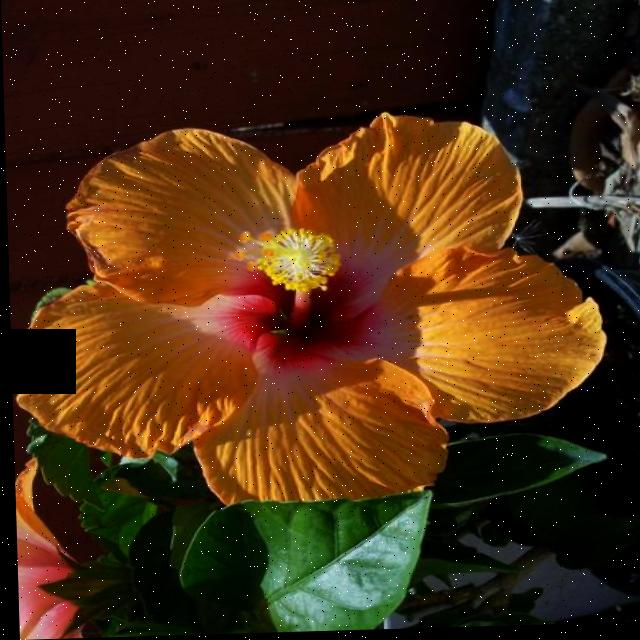hibiscus: (3, 94, 638, 610)
